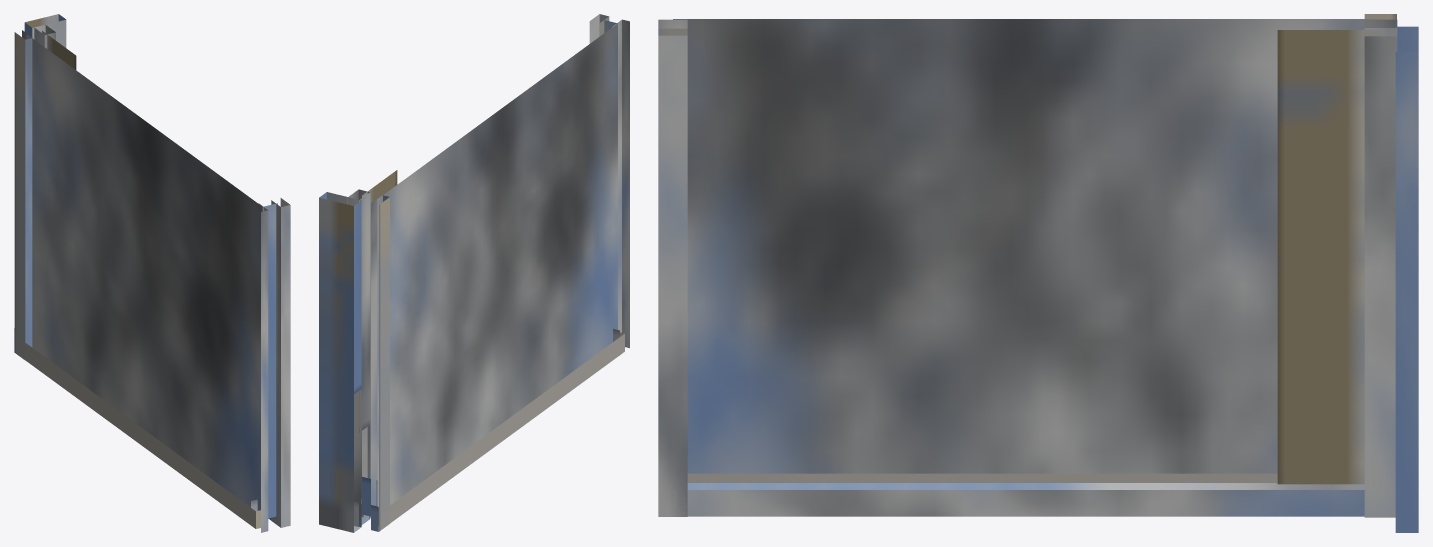
Rendered from section-2.obj.
3 renders of one model, left to right at view 1: azimuth 30°, elevation 25°; view 2: azimuth 150°, elevation 25°; view 3: azimuth 270°, elevation 25°, orthographic. The views are drawn at different scales.
Size of the model in its own units: 0.136 by 0.81 by 1.16.
